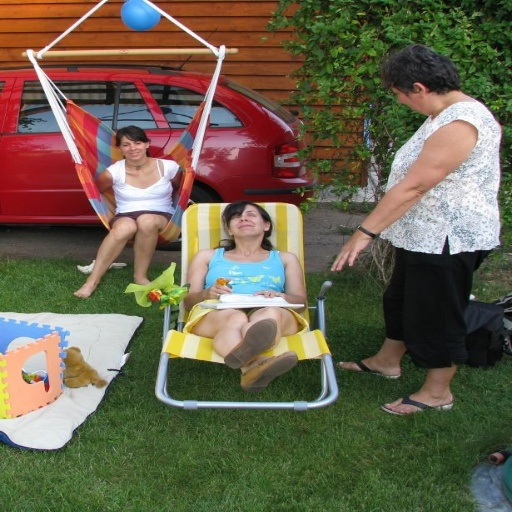hand: (339, 217, 390, 270), (203, 283, 235, 302), (252, 289, 288, 299)
